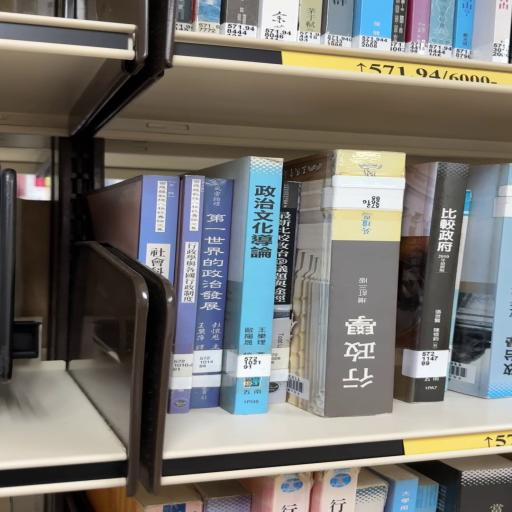reverse: (286, 150, 406, 418)
